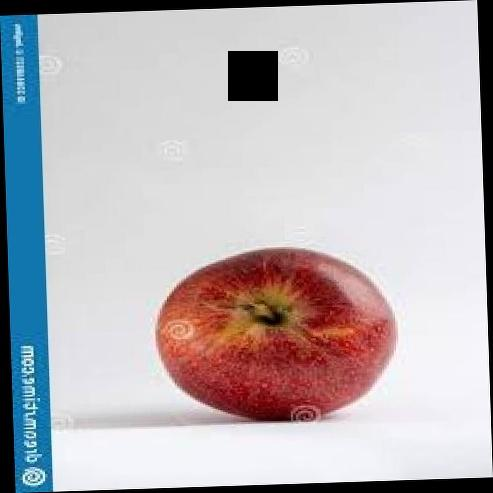red apple: (149, 243, 404, 422)
